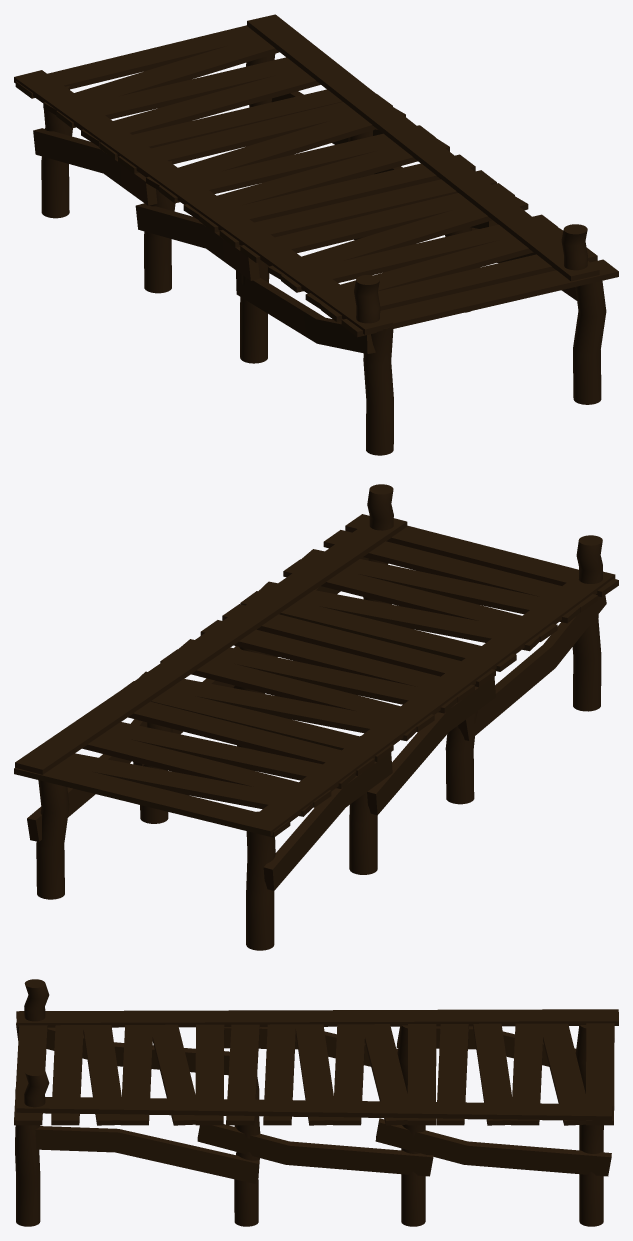
The model's file is Pier.fbx.
The picture shows the model from 3 angles, top to bottom: view 1: azimuth 30°, elevation 25°; view 2: azimuth 150°, elevation 25°; view 3: azimuth 270°, elevation 25°; orthographic projection. The views are drawn at different scales.
Visible parts, largest first — view 1: pCube42; view 2: pCube42; view 3: pCube42.
Part boxes in pixels (x1,y1,x2,y2): pCube42: (14, 14, 618, 455); pCube42: (14, 484, 618, 950); pCube42: (14, 979, 618, 1226).
Size of the model in its own units: 10.13 by 6.29 by 23.52.
